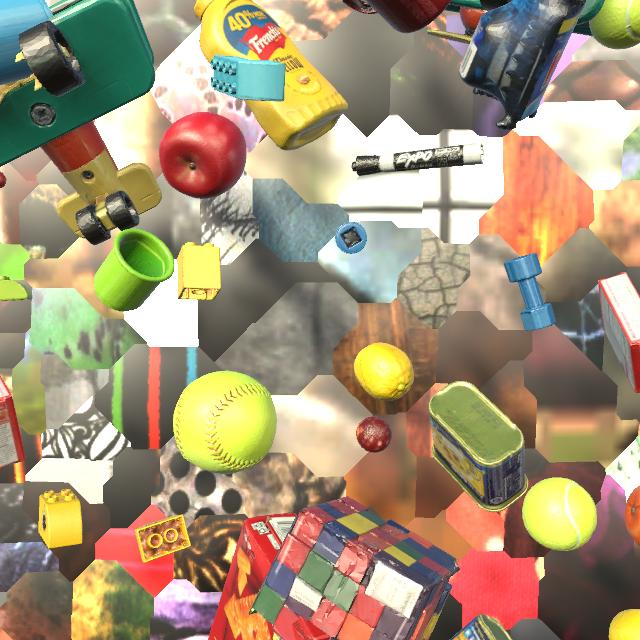ycb_003_cracker_box: (208, 513, 330, 640)
ycb_006_mustard_bottle: (194, 0, 348, 151)
ycb_009_gelatin_box: (598, 272, 640, 393), (0, 376, 26, 469)
ycb_010_potted_meat_can: (428, 381, 528, 512), (449, 614, 512, 640)
ycb_013_apple: (159, 112, 247, 199)
ycb_014_lemon: (354, 343, 414, 401), (609, 609, 640, 640)
ycb_017_orange: (624, 486, 640, 546)
